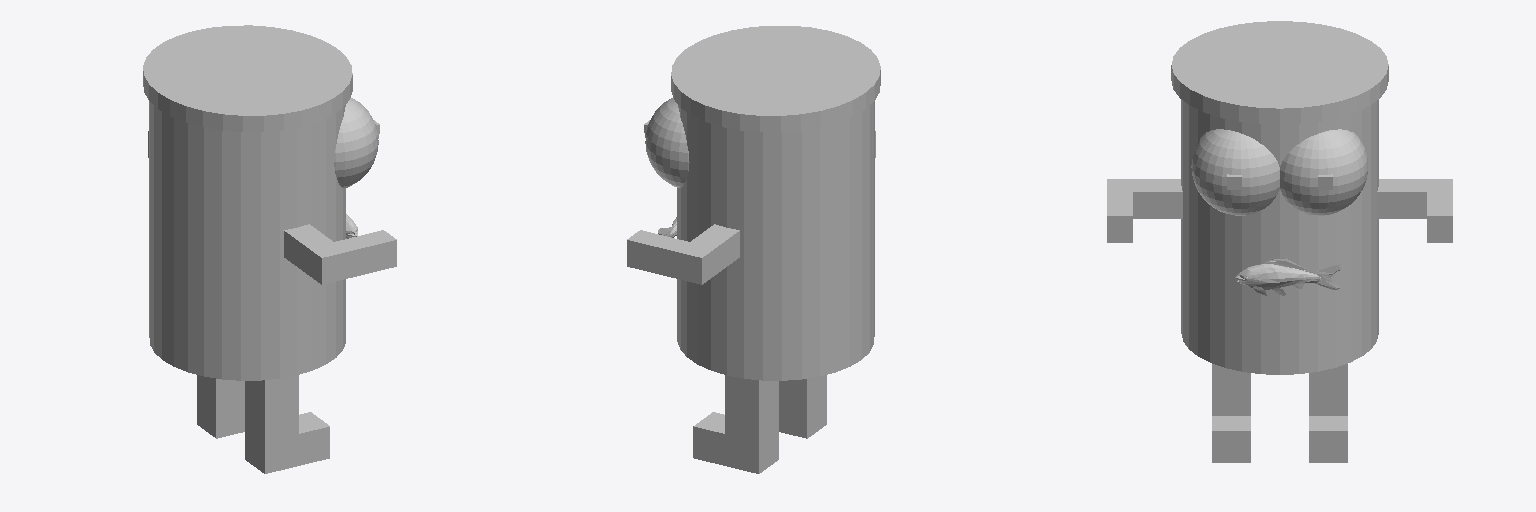
The model's file is player.obj.
3 views of the same model, side by side, from view 1: azimuth 30°, elevation 25°; view 2: azimuth 150°, elevation 25°; view 3: azimuth 270°, elevation 25° (orthographic).
Parts seen in each view (by area): view 1: Player, leg_right, arm_right, leg_left; view 2: Player, leg_left, arm_left, leg_right; view 3: Player, leg_right, leg_left, arm_right, arm_left.
Part boxes in pixels (left/top/right/bottom): Player: left=143, top=25, right=379, bottom=380; leg_right: left=245, top=375, right=329, bottom=473; arm_right: left=284, top=224, right=396, bottom=284; leg_left: left=197, top=375, right=244, bottom=438; Player: left=644, top=26, right=880, bottom=380; leg_left: left=693, top=375, right=778, bottom=473; arm_left: left=627, top=224, right=739, bottom=284; leg_right: left=779, top=375, right=826, bottom=438; Player: left=1171, top=21, right=1388, bottom=374; leg_right: left=1212, top=364, right=1250, bottom=462; leg_left: left=1309, top=364, right=1347, bottom=462; arm_right: left=1107, top=179, right=1182, bottom=242; arm_left: left=1377, top=179, right=1452, bottom=242.
Size of the model in its own units: 1.16 by 2.13 by 1.79.